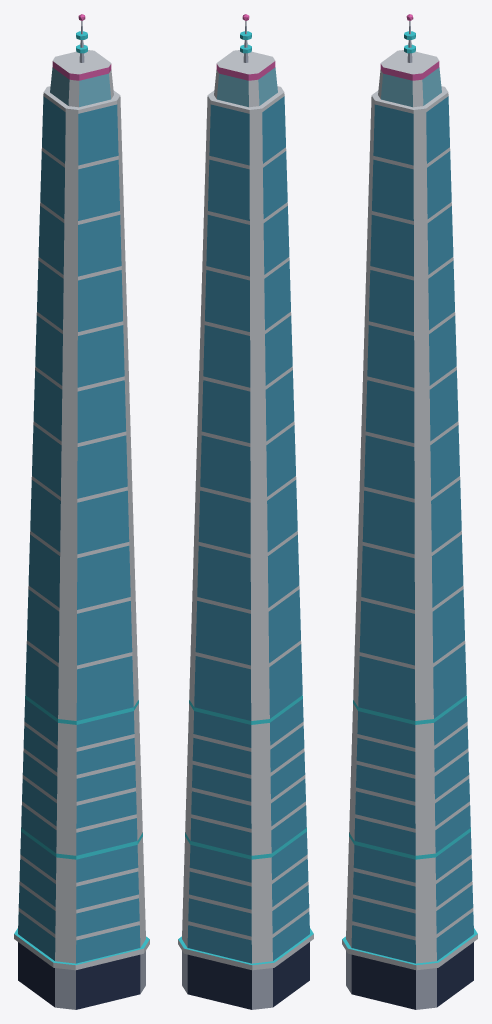
File: city-tower-1.glb
The picture shows the model from 3 angles, left to right: view 1: azimuth 30°, elevation 25°; view 2: azimuth 150°, elevation 25°; view 3: azimuth 330°, elevation 25°; orthographic projection.
Parts seen in each view (by area): view 1: CityTower1; view 2: CityTower1; view 3: CityTower1.
Boxes of the visible parts, x1=… form: CityTower1: x1=14, y1=14, x2=149, y2=1009; CityTower1: x1=178, y1=14, x2=313, y2=1009; CityTower1: x1=342, y1=14, x2=477, y2=1009.
Bounding box in the file's own units: 15.9 × 153 × 15.9.
